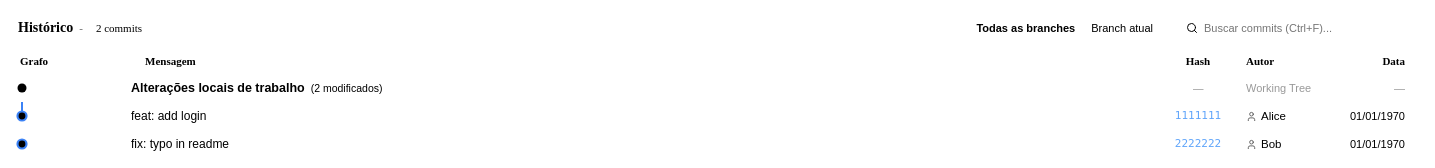
Test: Busca no histórico do GraphPanel › filtra commits por mensagem na busca do cabeçalho
Expected: the text "feat: add login" is shown, [131,109,206,123]
Expected: the text "fix: typo in readme" is shown, [131,137,229,151]
Type "login" into the field with placeholder "Buscar commits (Ctrl+F)...". click: (1298, 28)
box: [1178,16,1418,40]
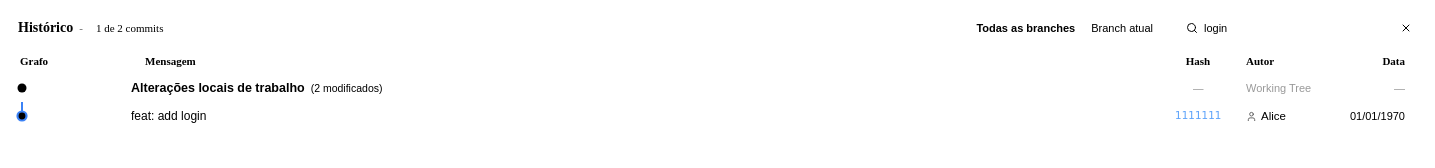
Expected: the text "feat: add login" is shown, [131,109,206,123]
Expected: the list item "fix: typo in readme" is gone
